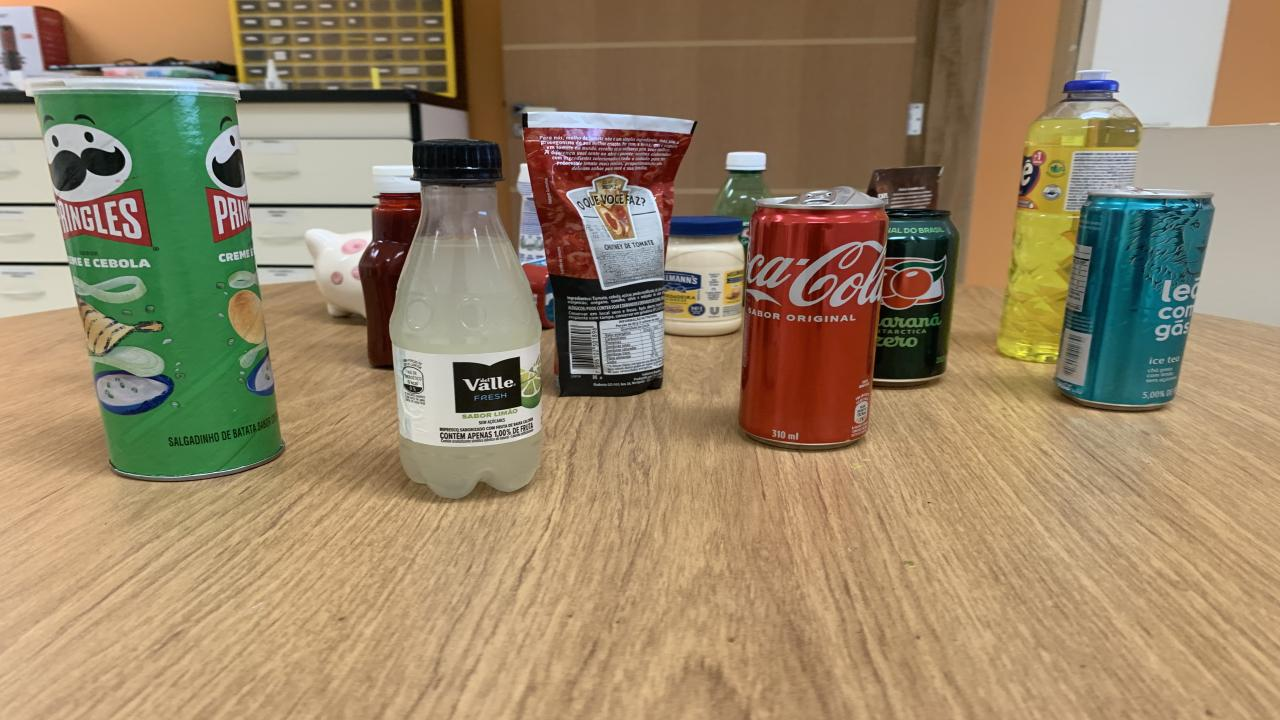Cleaner-Cleanup_Items: (518, 163, 545, 266)
Coffee-Pantry_Items: (868, 165, 942, 208)
Coke-Drinks: (740, 188, 888, 450)
Detergent-Cleanup_Items: (998, 71, 1142, 362)
Guarana-Drinks: (712, 152, 770, 251)
Guarana_Can-Drinks: (872, 210, 960, 384)
Mayonnaise-Pantry_Items: (358, 165, 420, 368), (665, 216, 745, 336)
Pig_Safe-Miscellaneous: (305, 229, 372, 317)
Pringles-Snacks: (28, 77, 282, 480)
Soda-Drinks: (390, 141, 542, 497)
Tea-Drinks: (1055, 188, 1215, 409)
Tomato_Sauce-Pantry_Items: (522, 112, 695, 396)
Tuna_Can-Pantry_Items: (522, 262, 555, 328)
